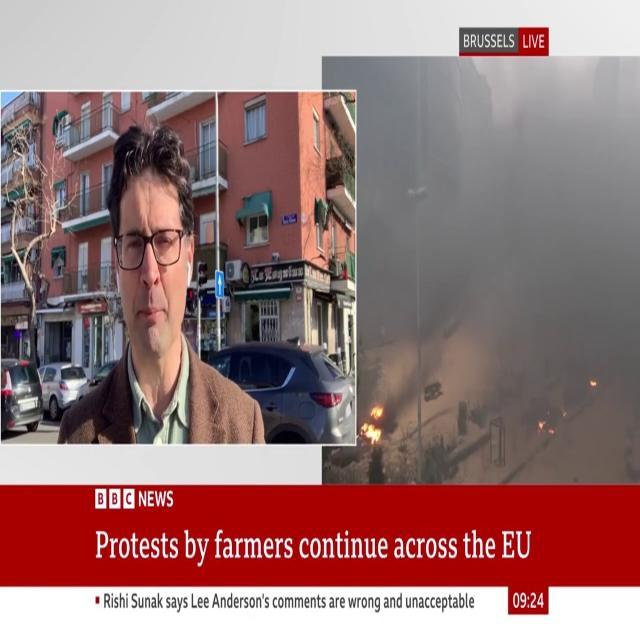Fire: (358, 400, 388, 446)
Smoke: (357, 56, 640, 428)
